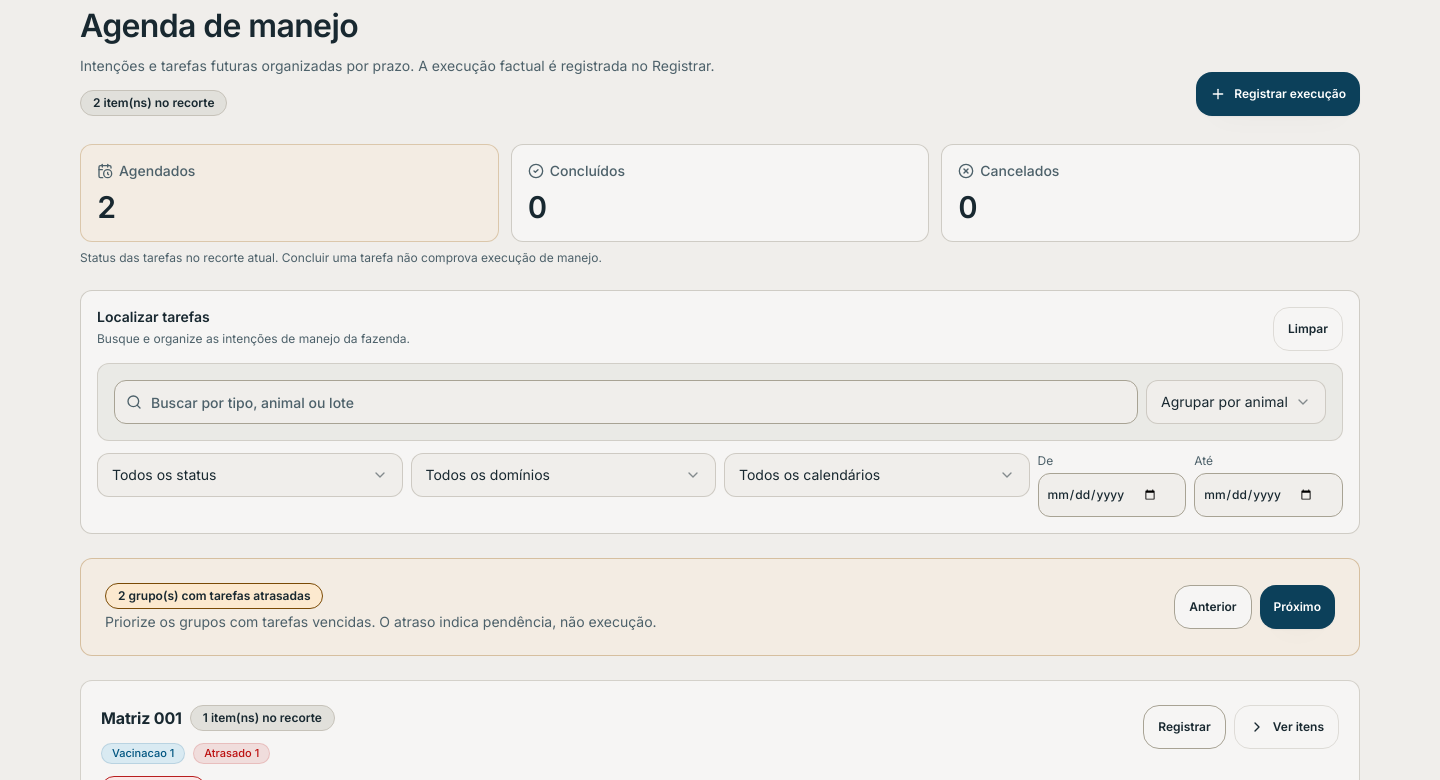
it: Agenda page › jumps between overdue groups through the critical shortcut bar
Expected: the text "2 grupo(s) com tarefas atrasadas" is shown, x1=105 y1=583 x2=324 y2=609
Click the button "Próximo": (1297, 607) x1=1260 y1=585 x2=1335 y2=629
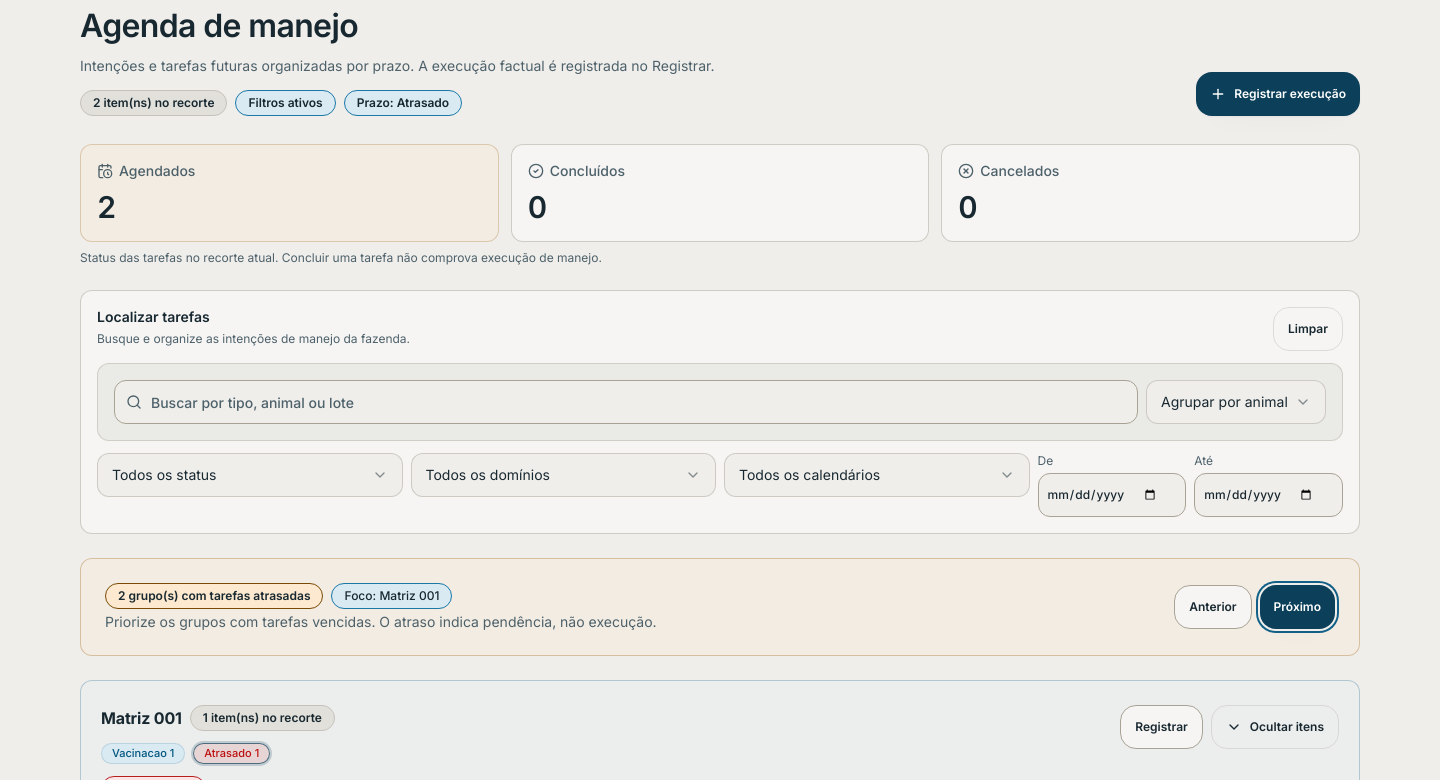
Expected: the text "Foco: Matriz 001" is shown, x1=332 y1=583 x2=452 y2=609
Click the button "Próximo": (1297, 607) x1=1260 y1=585 x2=1335 y2=629
(page scrolled)
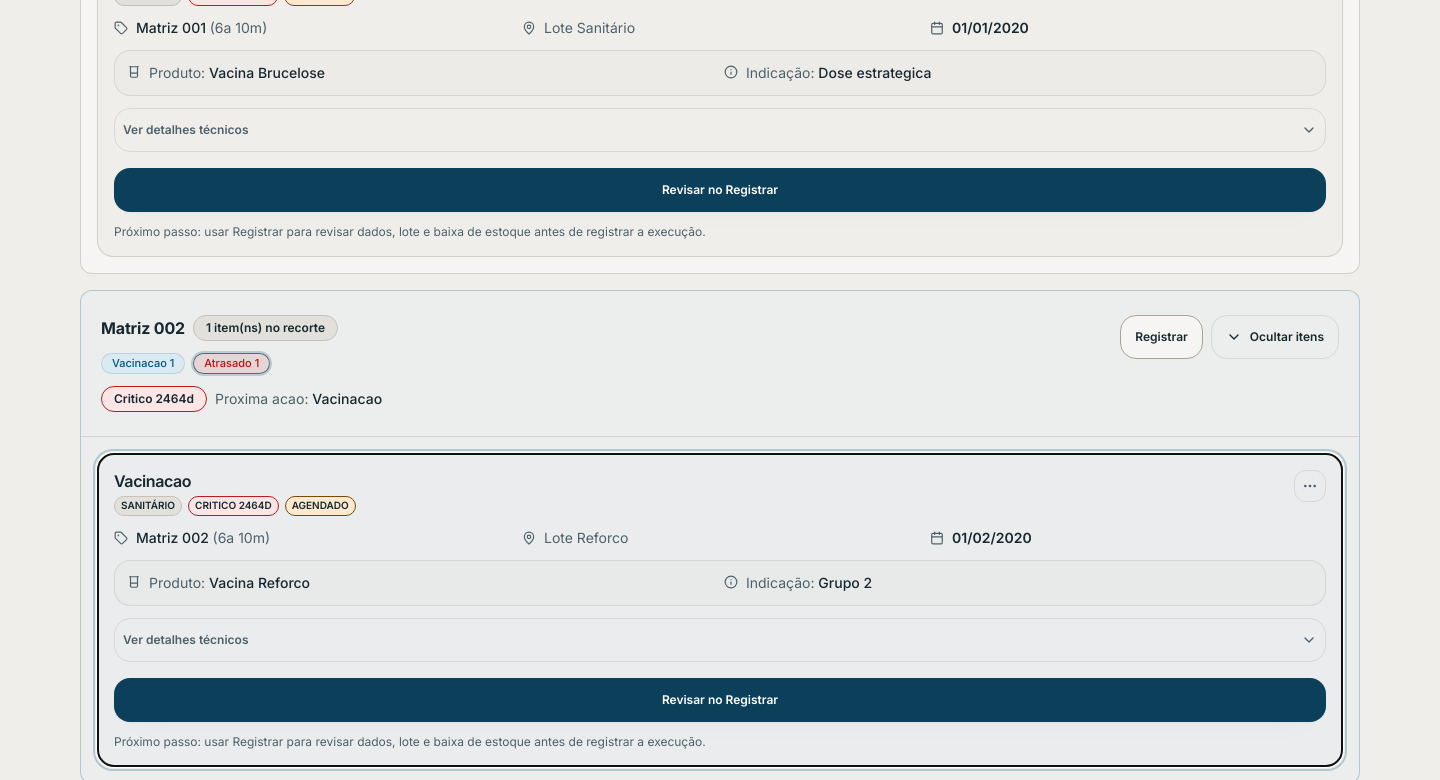
Expected: the text "Vacina Reforco" is shown, x1=209 y1=574 x2=310 y2=590
